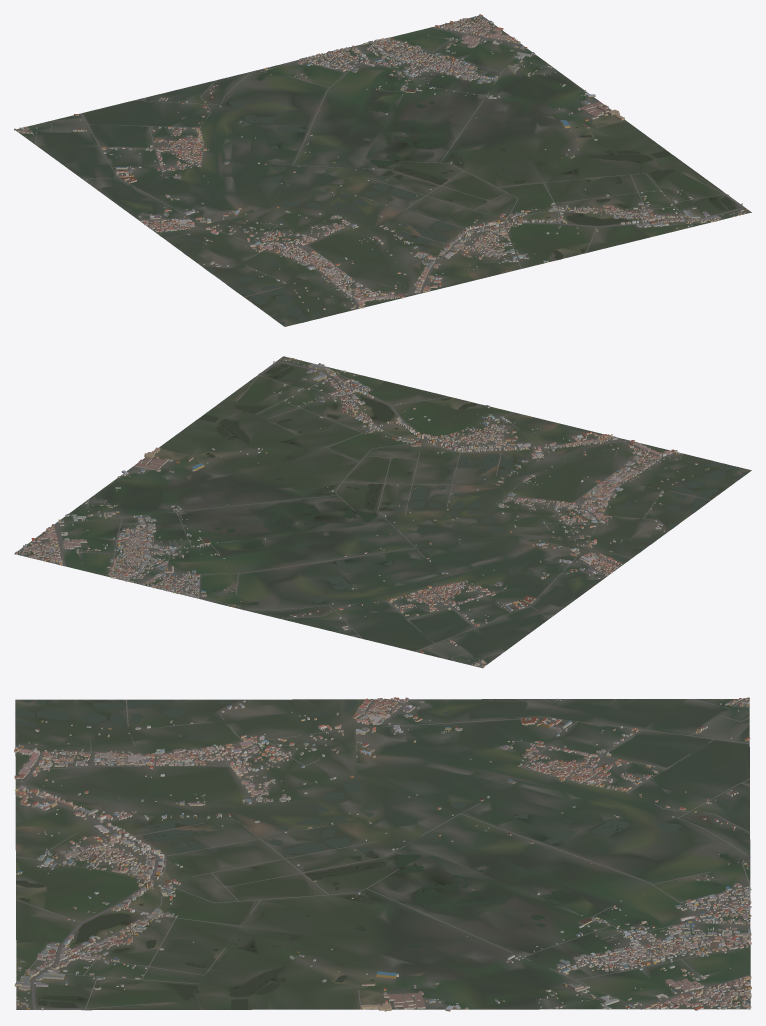
3 views of the same model, one above another, from view 1: azimuth 30°, elevation 25°; view 2: azimuth 150°, elevation 25°; view 3: azimuth 270°, elevation 25° (orthographic). The views are drawn at different scales.
Visible parts, largest first — view 1: ground, buildings, water, roads; view 2: ground, buildings, water, roads; view 3: ground, buildings, water, roads.
Boxes of the visible parts, x1,y1,x2,y2 form: ground: (16, 16, 751, 326); buildings: (14, 14, 746, 311); water: (142, 68, 736, 324); roads: (17, 17, 744, 308); ground: (14, 356, 751, 667); buildings: (15, 357, 709, 668); water: (163, 364, 748, 625); roads: (21, 361, 710, 667); ground: (15, 699, 750, 1010); buildings: (14, 697, 751, 1011); water: (15, 699, 730, 1009); roads: (16, 699, 750, 1010).
Bounding box in the file's own units: 2828 × 28.31 × 2817.
